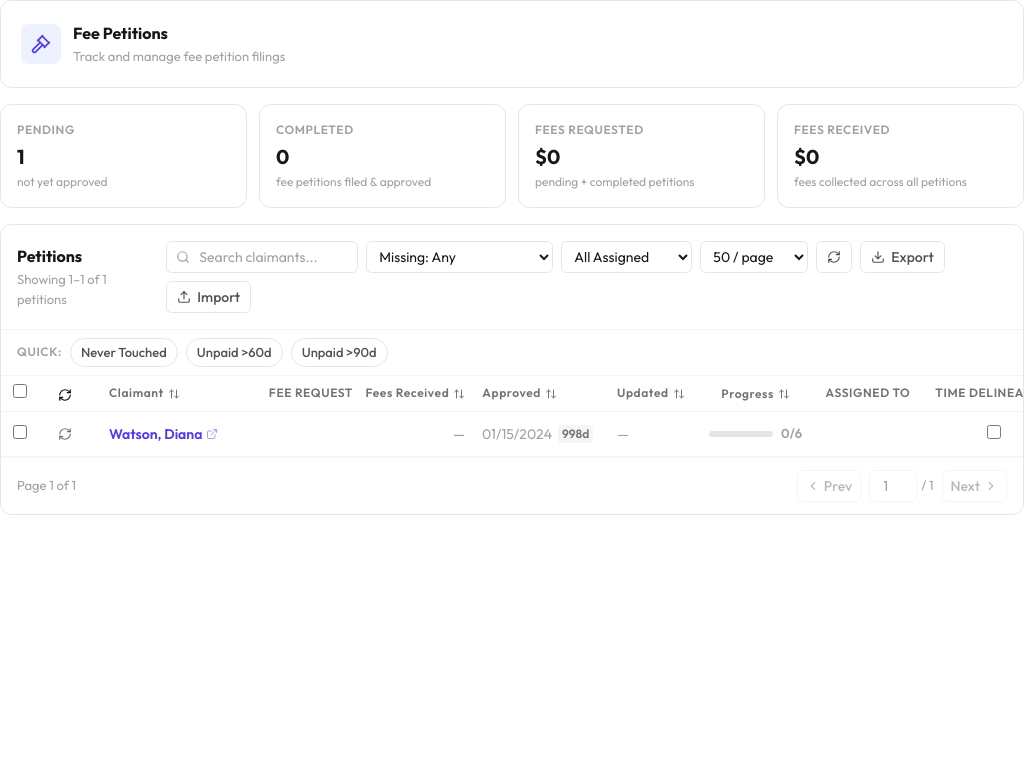
Scenario: FeePetitions — bulk checklist done › shows an error banner when bulkMarkComplete fails
Expected: the text "Watson, Diana" is shown, top-left (109, 424), bottom-right (202, 444)
Click the checkbox named "select watson, diana": (20, 432) top-left (13, 424), bottom-right (27, 438)
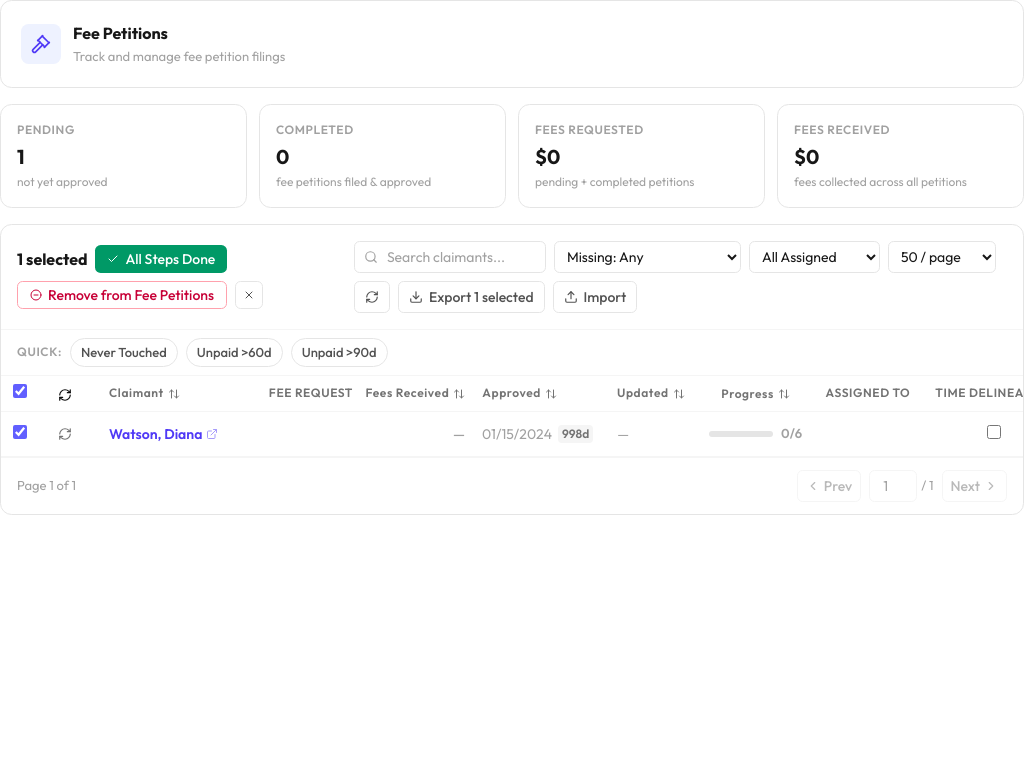
Click the button with aria-label "mark all checklist steps done": (161, 258) top-left (96, 244), bottom-right (227, 272)
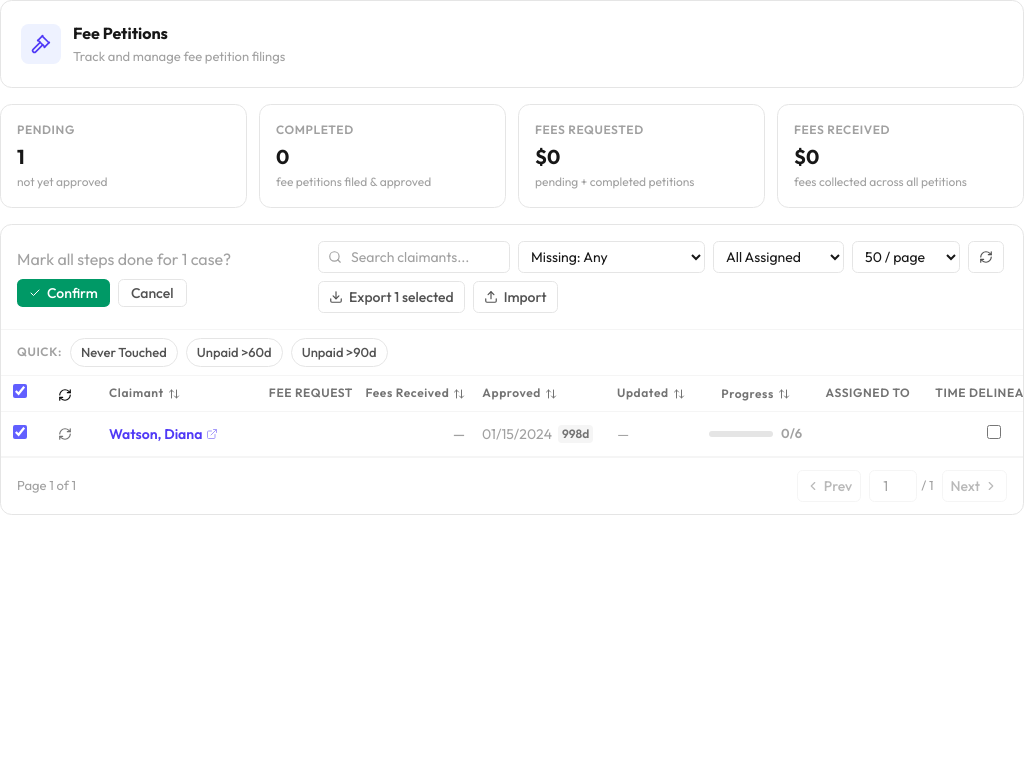
Click the button "Confirm": (63, 292) top-left (17, 278), bottom-right (110, 306)
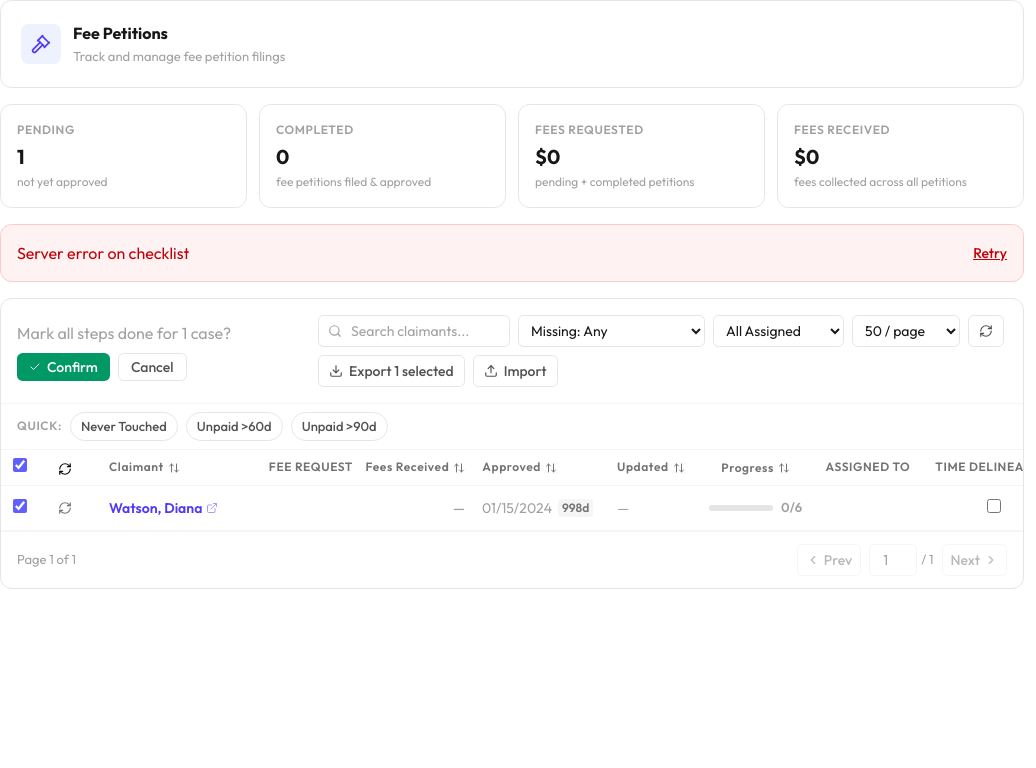
Expected: the text "Server error on checklist" is shown, top-left (17, 240), bottom-right (189, 264)
